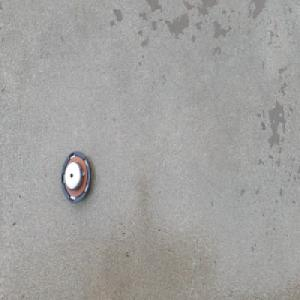FuelCap: (59, 148, 91, 204)
